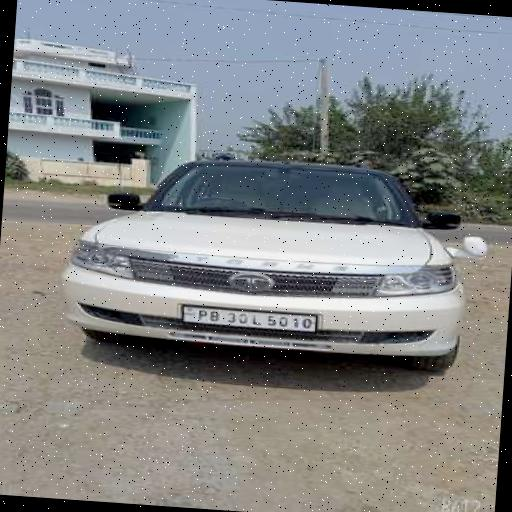license_plate`: (180, 304, 316, 331)
